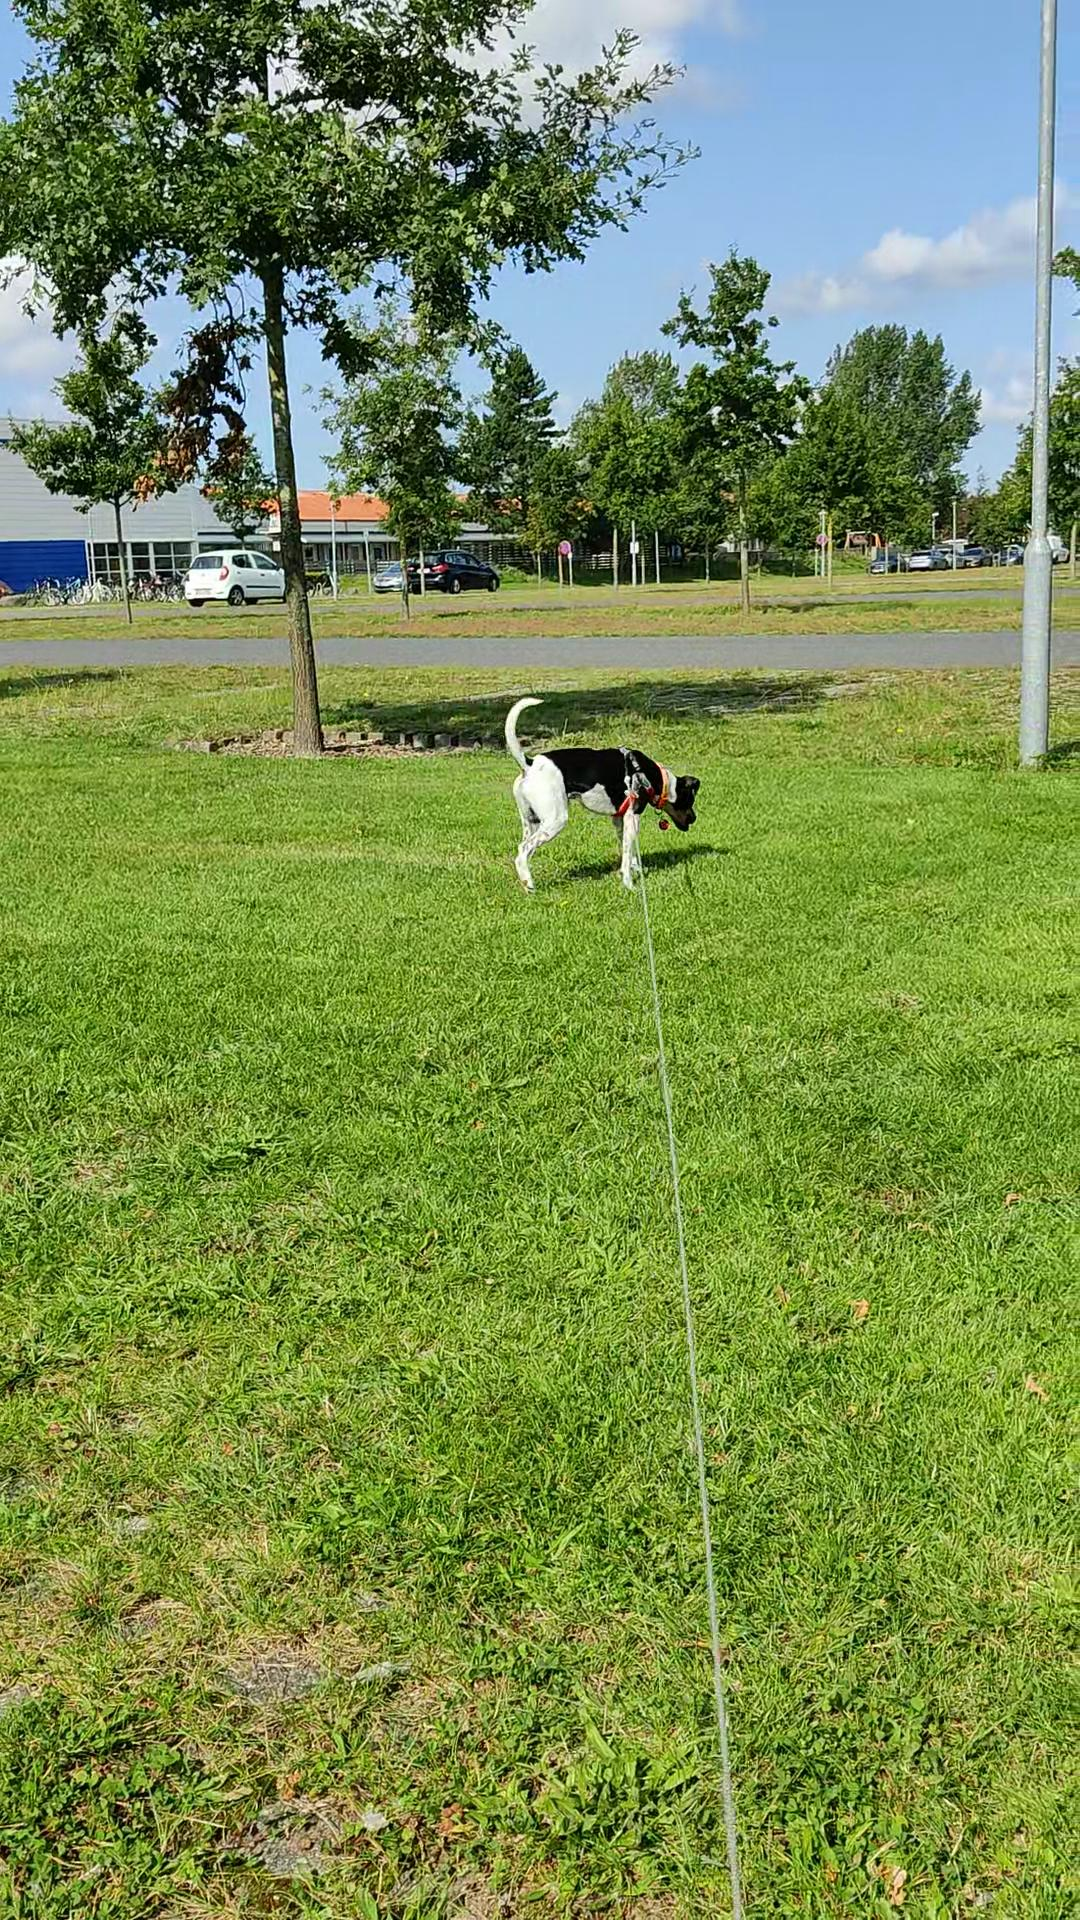Dog: (501, 695, 704, 891)
